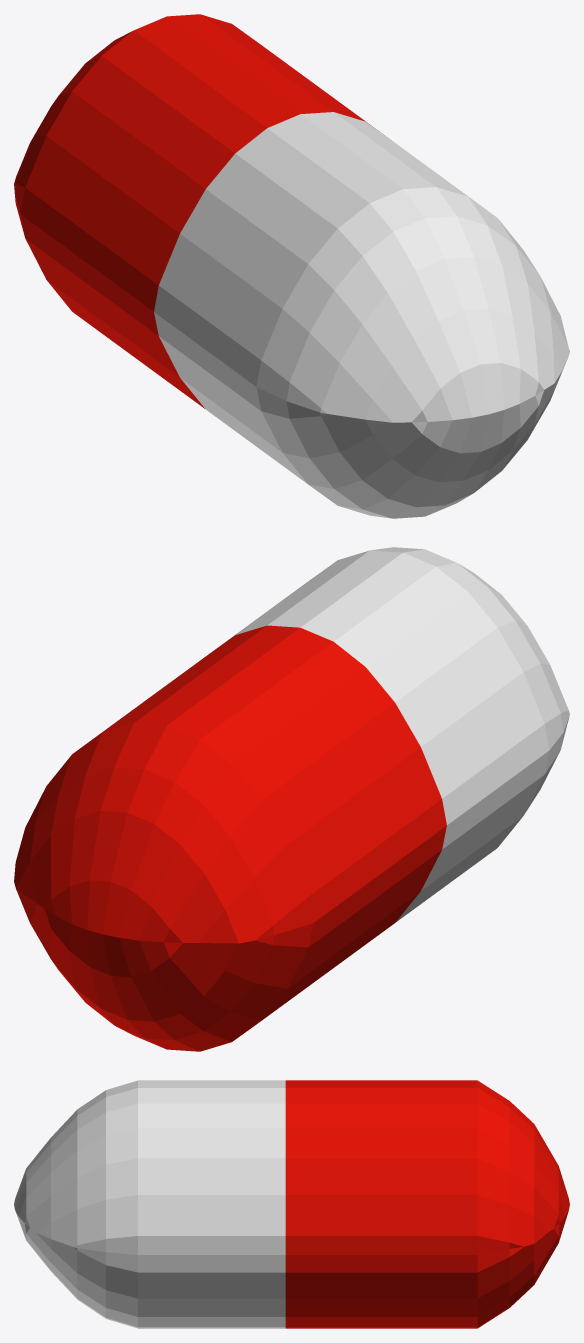
The model's file is pill.fbx.
3 renders of one model, top to bottom at view 1: azimuth 30°, elevation 25°; view 2: azimuth 150°, elevation 25°; view 3: azimuth 270°, elevation 25°, orthographic. The views are drawn at different scales.
Visible parts, largest first — view 1: ilac1; view 2: ilac1; view 3: ilac1.
Part boxes in pixels (x1,y1,x2,y2): ilac1: [14, 14, 569, 518]; ilac1: [14, 547, 569, 1051]; ilac1: [14, 1080, 569, 1328].
Bounding box in the file's own units: 60.58 × 64.62 × 140.
